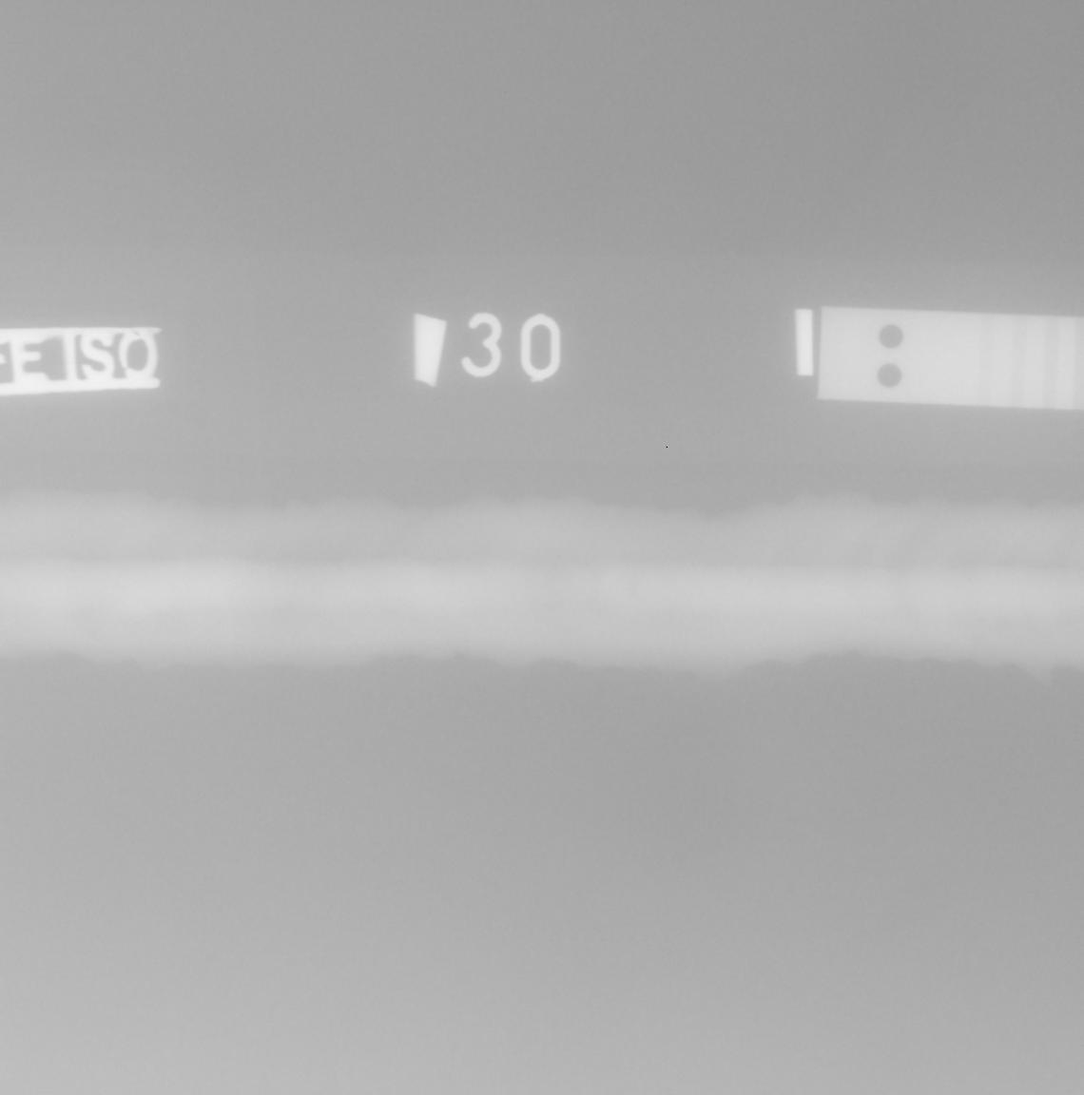Inclusion: (626, 578, 641, 601), (747, 574, 753, 584), (585, 562, 589, 567), (719, 604, 724, 606)
